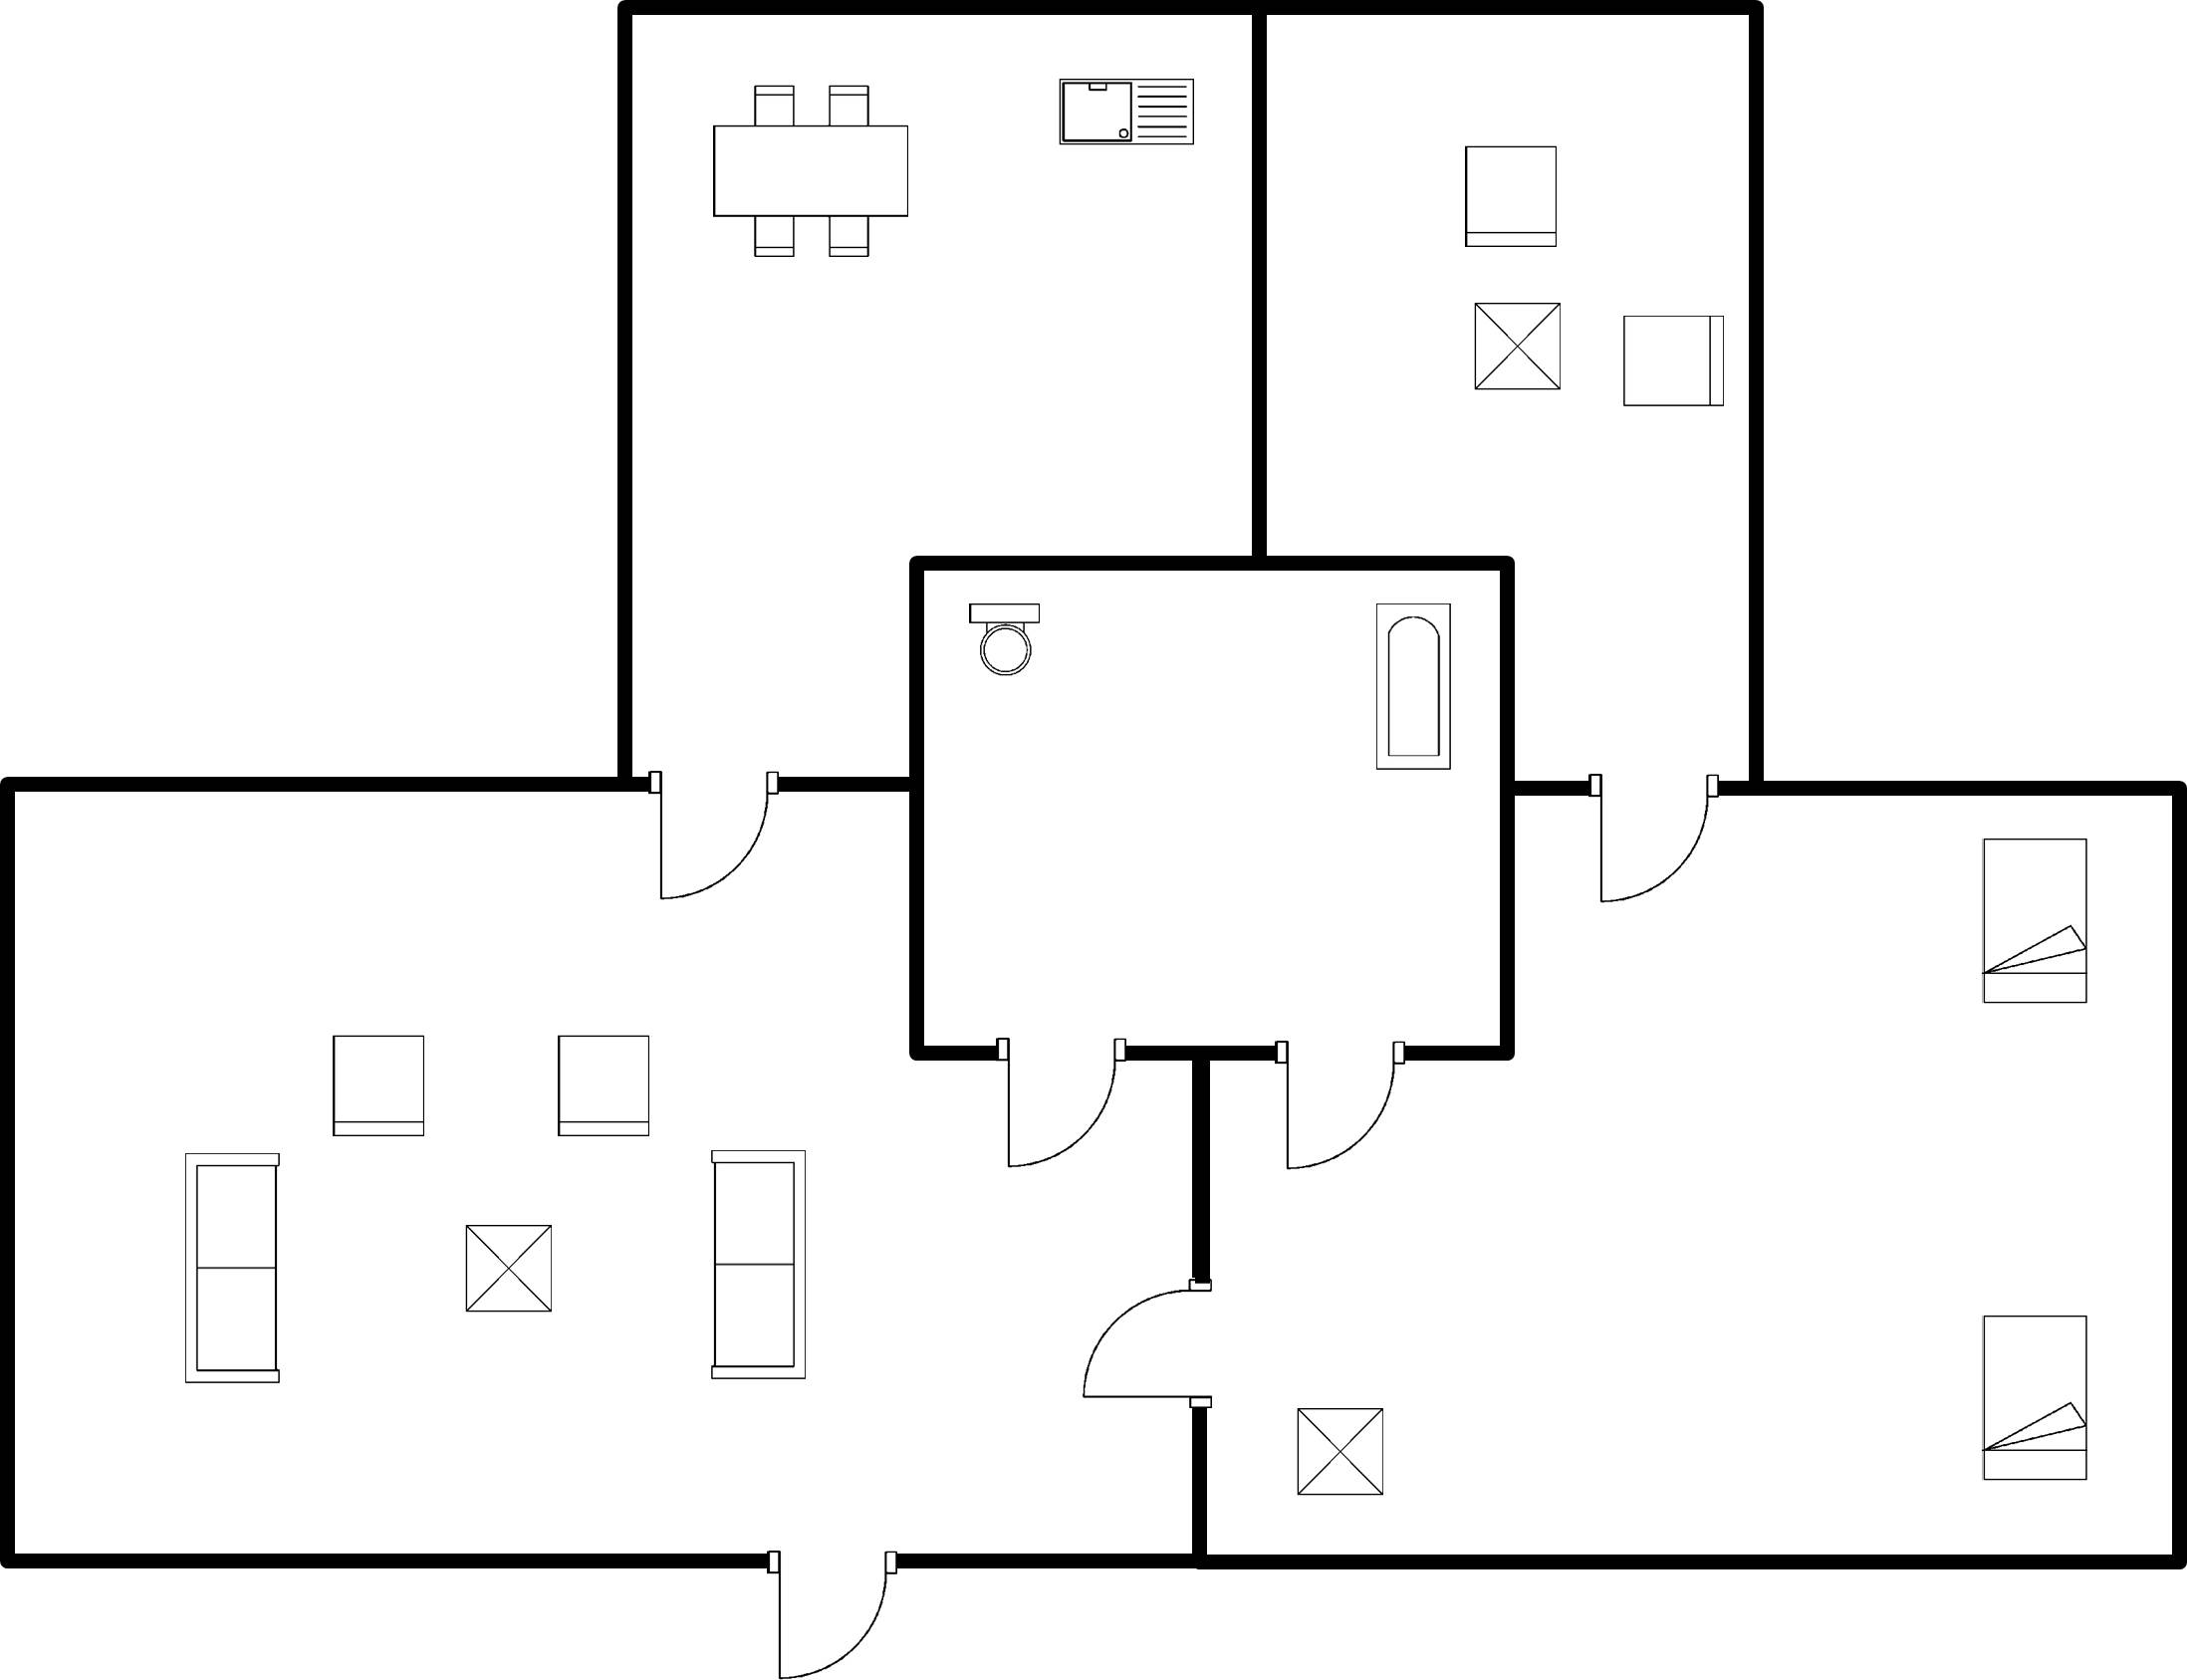bed: (1969, 827, 2104, 1019), (1972, 1299, 2097, 1496)
coffee_table: (1456, 293, 1572, 403), (1285, 1393, 1394, 1506), (455, 1215, 565, 1324)
dining_table: (693, 72, 917, 270)
large_sink: (956, 593, 1053, 689)
large_sofa: (172, 1136, 294, 1394), (700, 1136, 815, 1391)
sink: (1050, 64, 1203, 165)
small_sofa: (544, 1021, 661, 1149), (322, 1024, 437, 1154), (1454, 135, 1571, 262), (1614, 307, 1737, 418)
tub: (1363, 592, 1464, 783)
